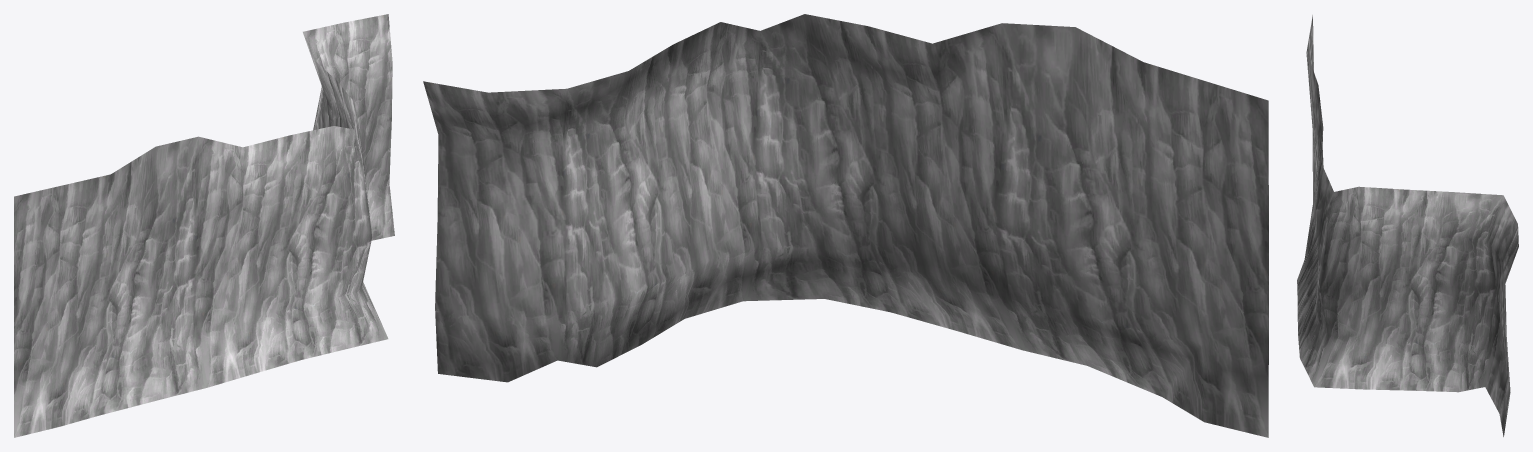
Rendered from SWORDLIGHT20_PS-AREA03_179.fbx.
3 views of the same model, side by side, from view 1: azimuth 30°, elevation 25°; view 2: azimuth 150°, elevation 25°; view 3: azimuth 270°, elevation 25° (orthographic). The views are drawn at different scales.
Parts seen in each view (by area): view 1: SWORDLIGHT20_PS-AREA03_179; view 2: SWORDLIGHT20_PS-AREA03_179; view 3: SWORDLIGHT20_PS-AREA03_179.
Part boxes in pixels (<box>): SWORDLIGHT20_PS-AREA03_179: <box>14,14,394,437</box>; SWORDLIGHT20_PS-AREA03_179: <box>423,14,1268,437</box>; SWORDLIGHT20_PS-AREA03_179: <box>1297,15,1518,436</box>.
Bounding box in the file's own units: 106239 × 53576 × 46631.
Materials: 1 (1 with a texture image).
